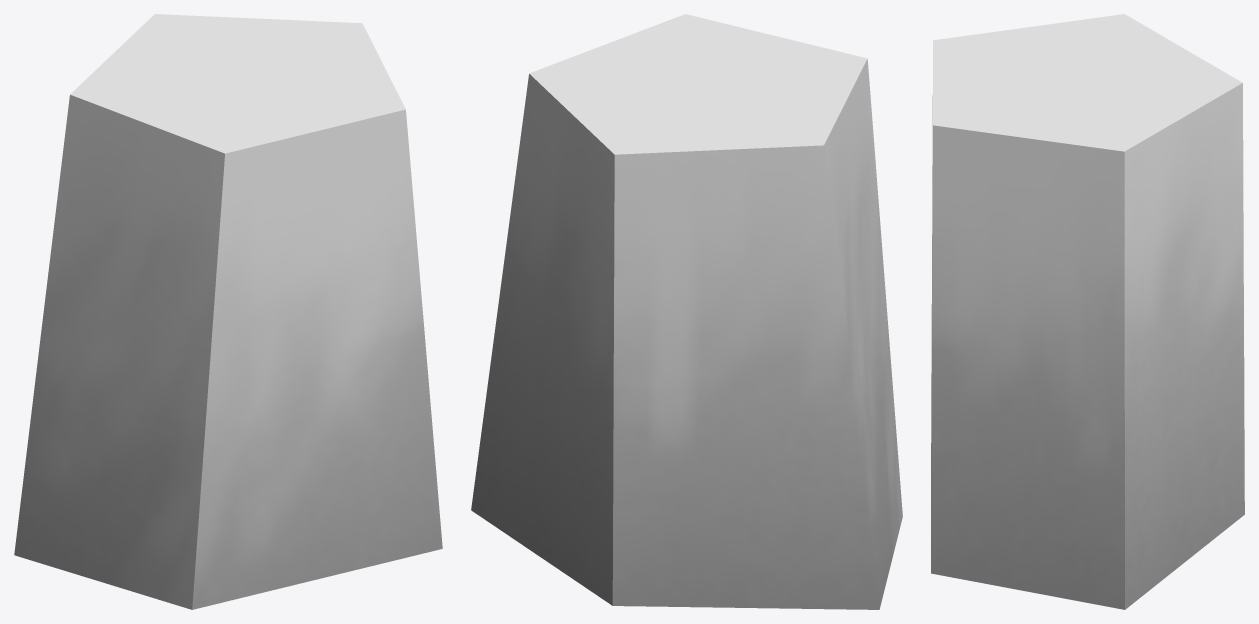
The model's file is Birch_Stump_Snow_03_LOD.fbx.
3 renders of one model, left to right at view 1: azimuth 30°, elevation 25°; view 2: azimuth 150°, elevation 25°; view 3: azimuth 270°, elevation 25°, orthographic. The views are drawn at different scales.
Parts seen in each view (by area): view 1: Birch_Stump_Snow_03_LOD0; view 2: Birch_Stump_Snow_03_LOD0; view 3: Birch_Stump_Snow_03_LOD0.
Boxes of the visible parts, x1,y1,x2,y2 form: Birch_Stump_Snow_03_LOD0: (14, 14, 442, 609); Birch_Stump_Snow_03_LOD0: (471, 14, 902, 609); Birch_Stump_Snow_03_LOD0: (931, 14, 1244, 609).
Size of what is drawn, in the model's own units: 81.96 by 86.42 by 56.98.
